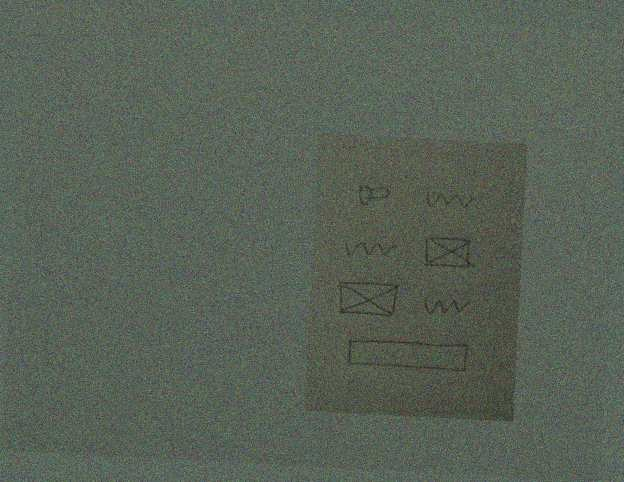image: (333, 278, 403, 321), (419, 233, 479, 274)
switch: (354, 180, 395, 211)
text: (339, 237, 401, 263), (420, 294, 474, 322), (422, 188, 479, 213)
text_input: (343, 336, 470, 377)
